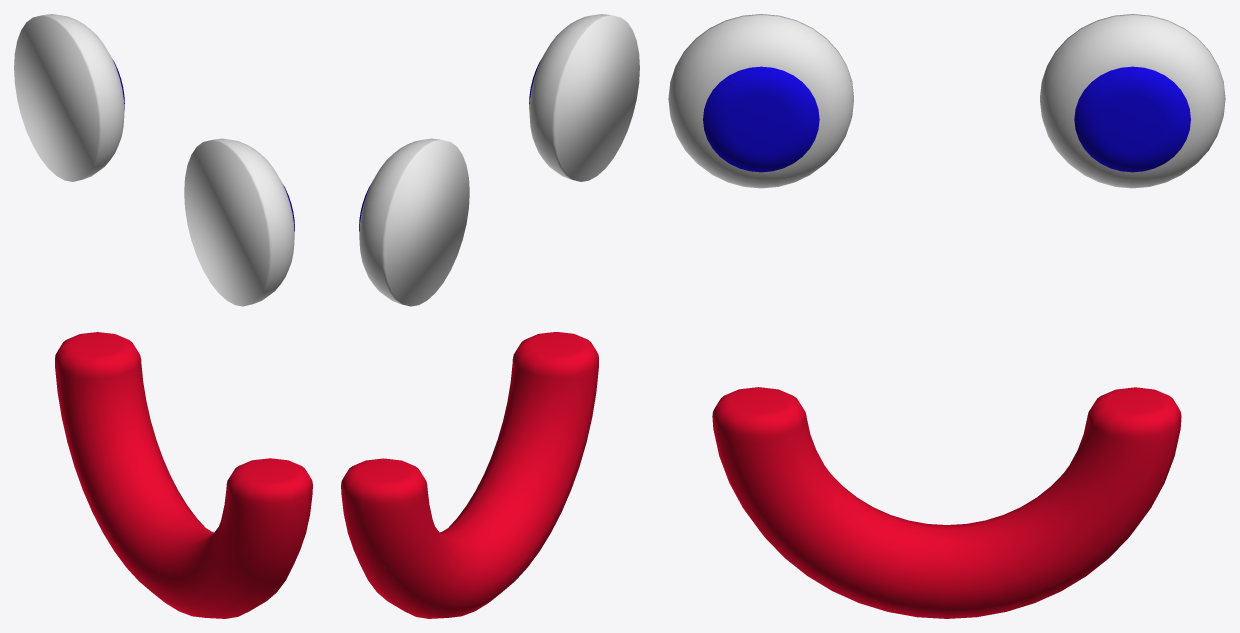
The model's file is cara.glb.
3 views of the same model, side by side, from view 1: azimuth 30°, elevation 25°; view 2: azimuth 150°, elevation 25°; view 3: azimuth 270°, elevation 25° (orthographic). The views are drawn at different scales.
Visible parts, largest first — view 1: Torus, Circle.001, Circle.002; view 2: Torus, Circle.001, Circle.002; view 3: Torus, Circle.001, Circle.002.
Boxes of the visible parts, bbox=[...] form: Torus: bbox=[55, 332, 312, 618]; Circle.001: bbox=[184, 138, 294, 306]; Circle.002: bbox=[14, 14, 124, 181]; Torus: bbox=[341, 332, 598, 618]; Circle.001: bbox=[529, 14, 639, 181]; Circle.002: bbox=[359, 138, 469, 306]; Torus: bbox=[712, 387, 1181, 618]; Circle.001: bbox=[668, 14, 853, 188]; Circle.002: bbox=[1040, 14, 1225, 188].
Size of the model in its own units: 1.62 by 10.31 by 9.
